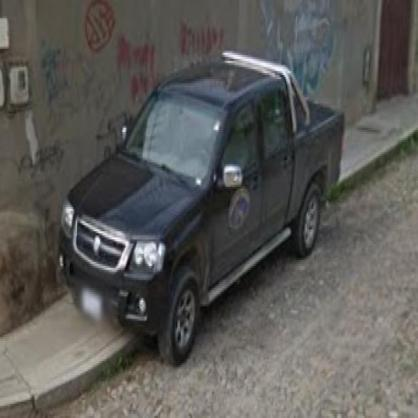car: (52, 51, 340, 365)
